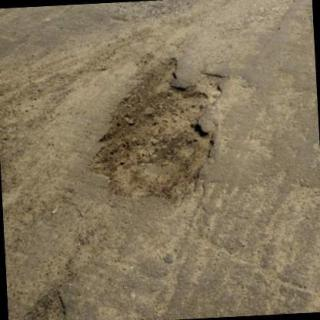pothole: (91, 59, 227, 202)
